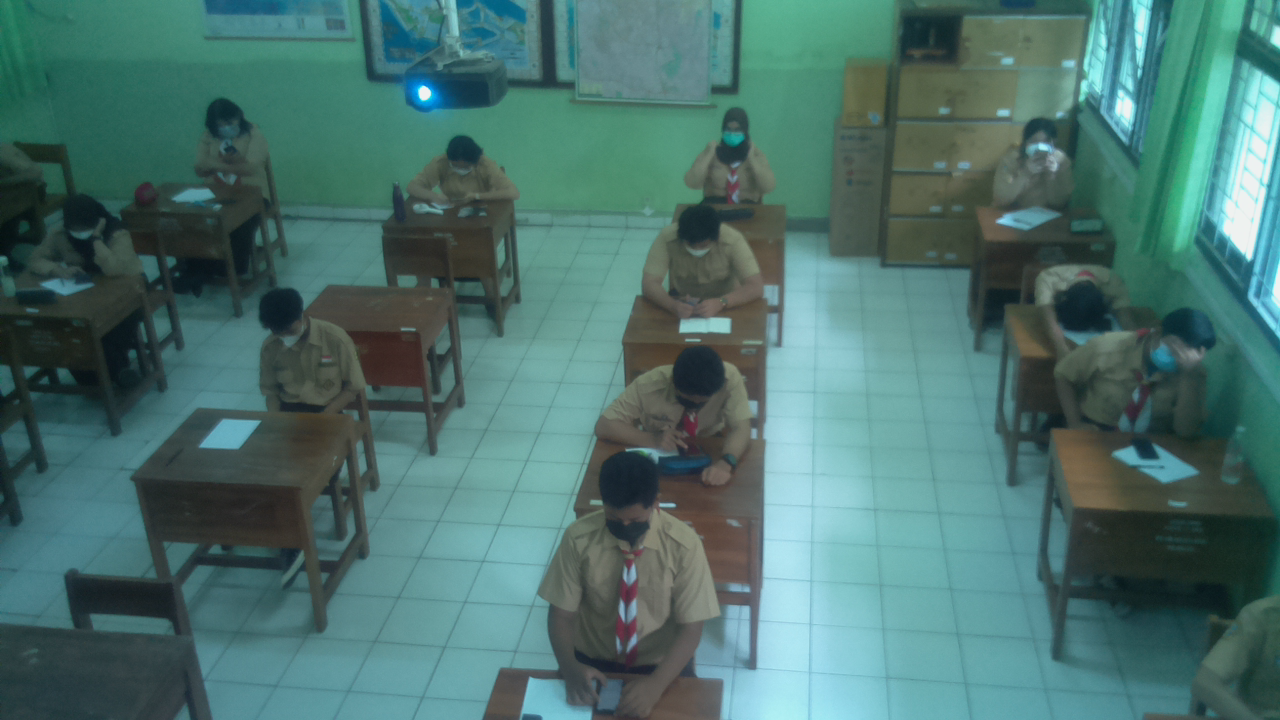Student: (555, 451, 706, 669), (1097, 308, 1209, 439), (629, 347, 750, 449), (257, 287, 354, 403), (655, 207, 755, 302), (39, 195, 133, 276), (1035, 263, 1137, 333), (699, 107, 771, 202), (997, 119, 1074, 205), (419, 133, 504, 204), (193, 97, 258, 181)
